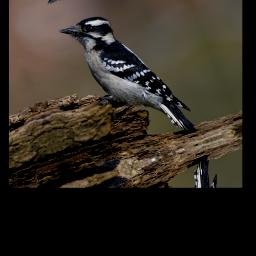Woodpecker: (56, 0, 200, 162)
